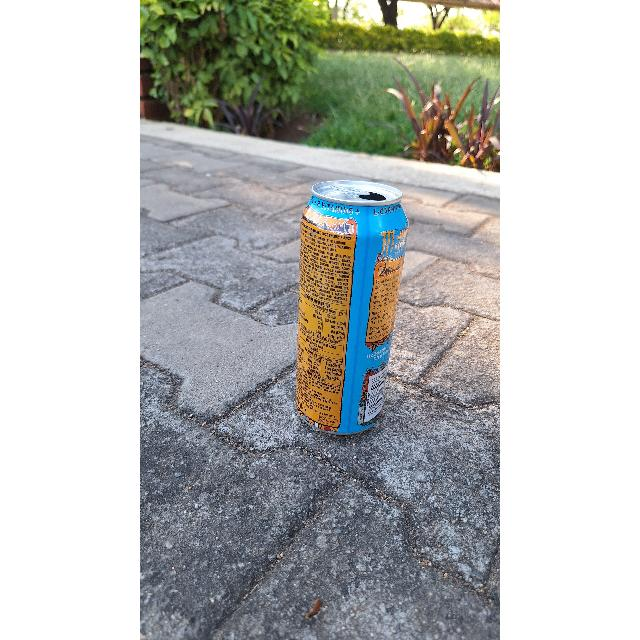Monster Mango Loco: (299, 175, 409, 438)
